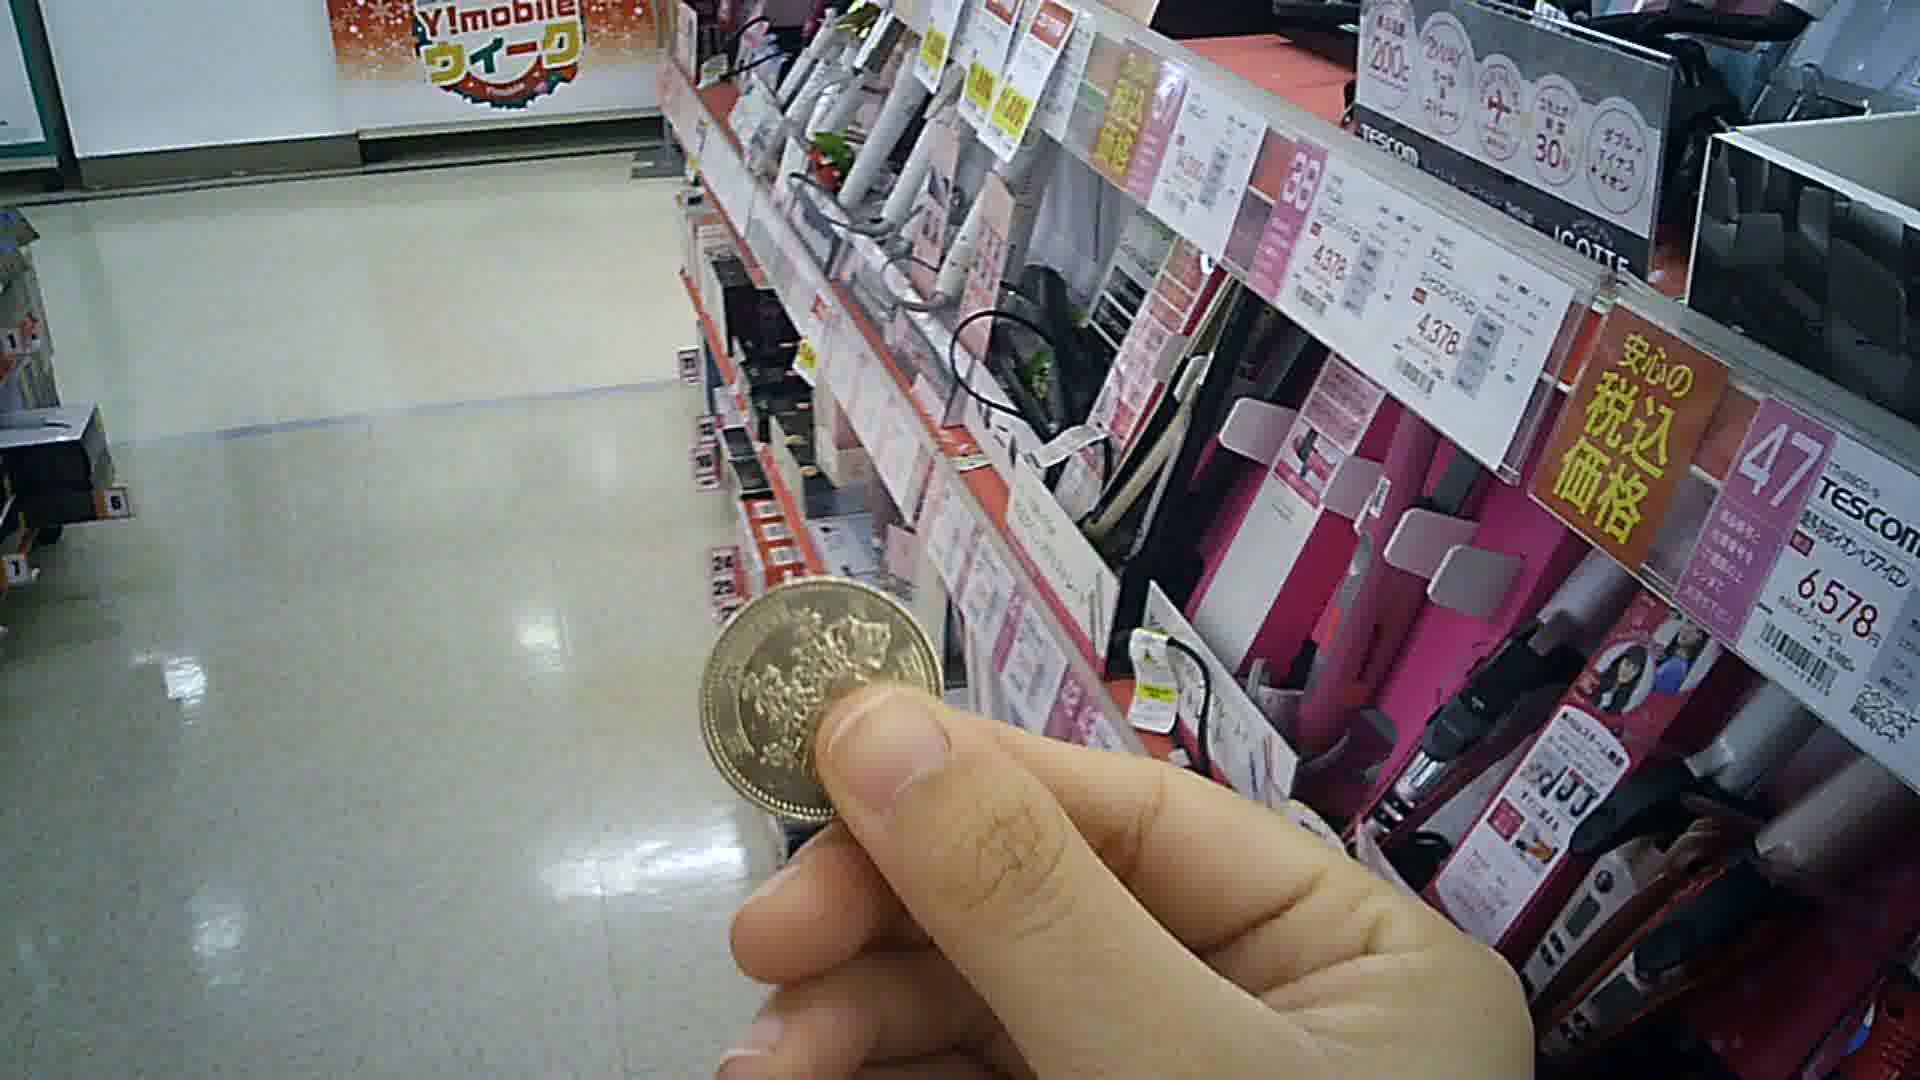500 Yen: (702, 568, 952, 822)
